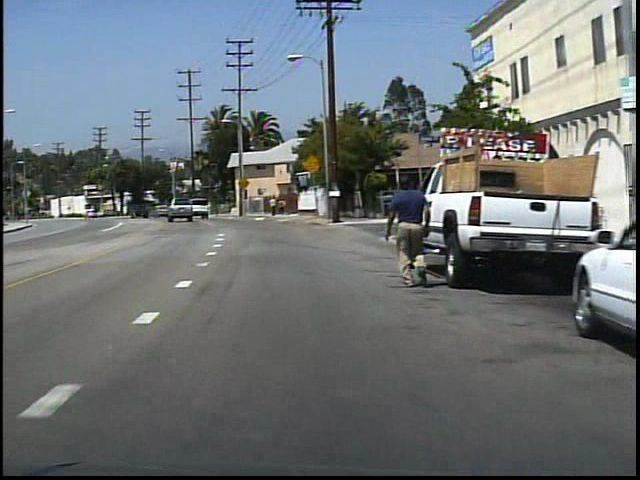person: (379, 169, 431, 289), (269, 194, 278, 219), (276, 197, 287, 217)
